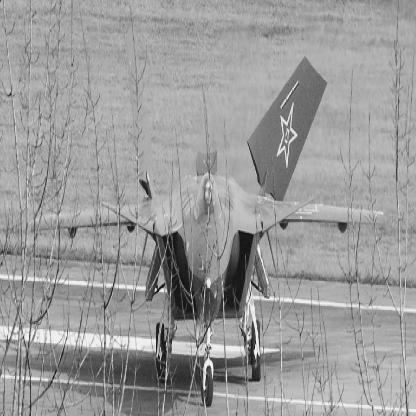J20: (31, 23, 385, 409)
